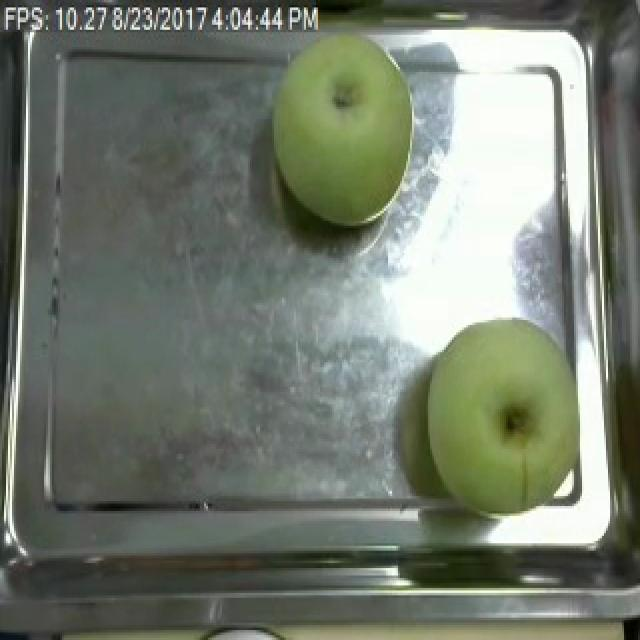50-_ripeness: (417, 312, 589, 518), (267, 31, 428, 224)
